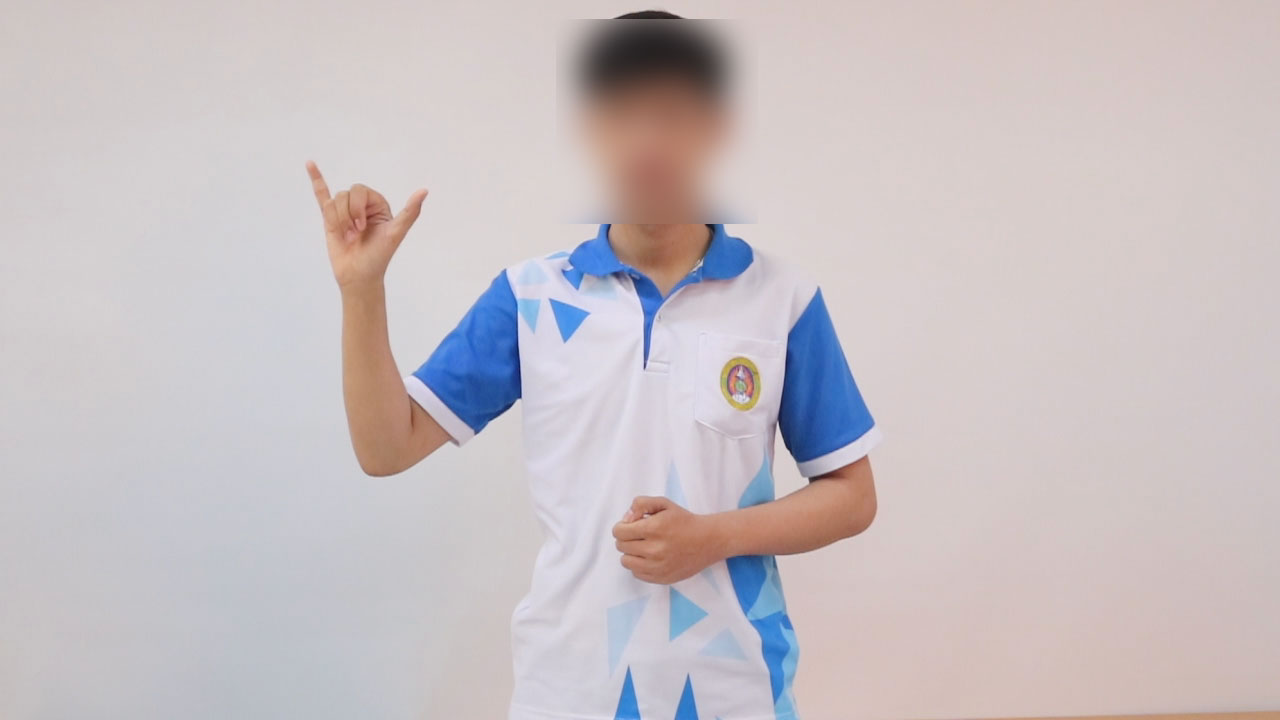yor: (292, 150, 435, 294)
